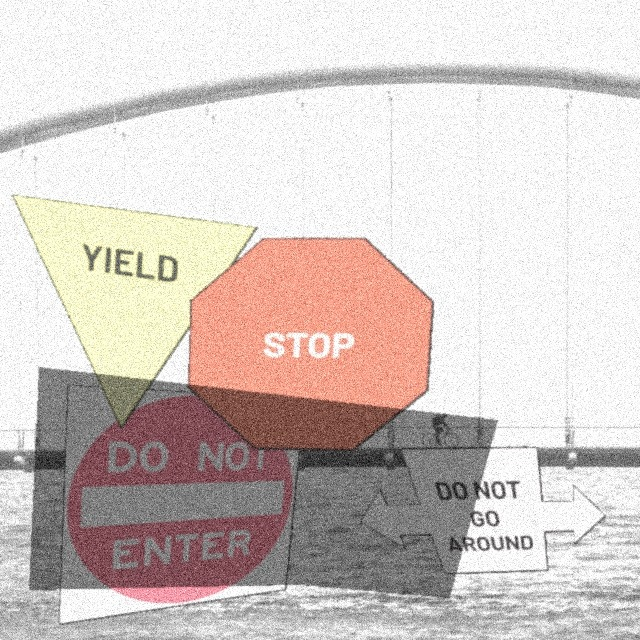DO_NOT_ENTER: (58, 384, 305, 625)
DO_NOT_GO_AROUND: (359, 446, 606, 574)
STOP: (187, 237, 434, 451)
YIELD: (11, 194, 258, 429)
